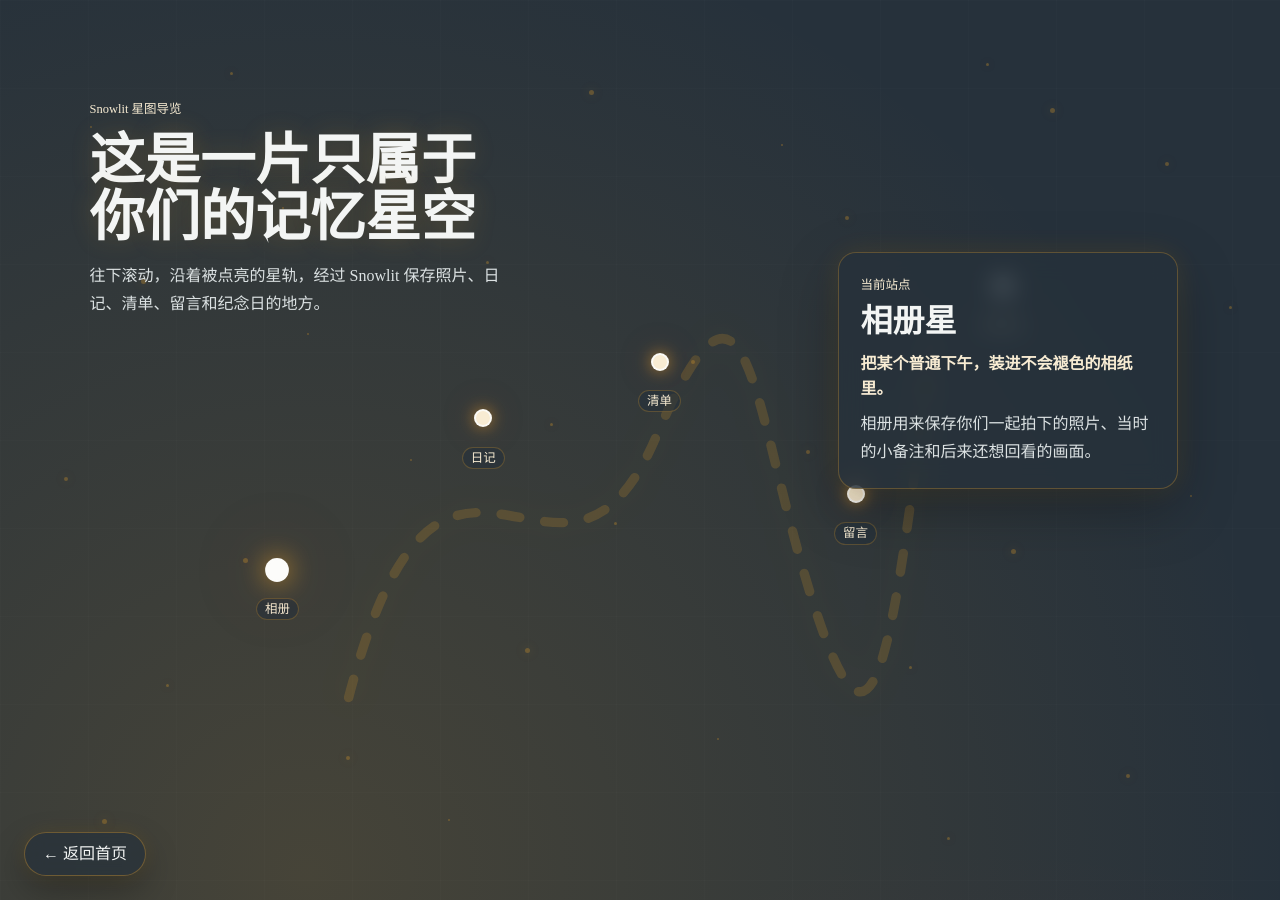
Test: 关于页星图导览 › 聚焦或触发站点会切换当前说明卡
Focus the link "留言" at (856, 533), box 834,485 -> 877,545
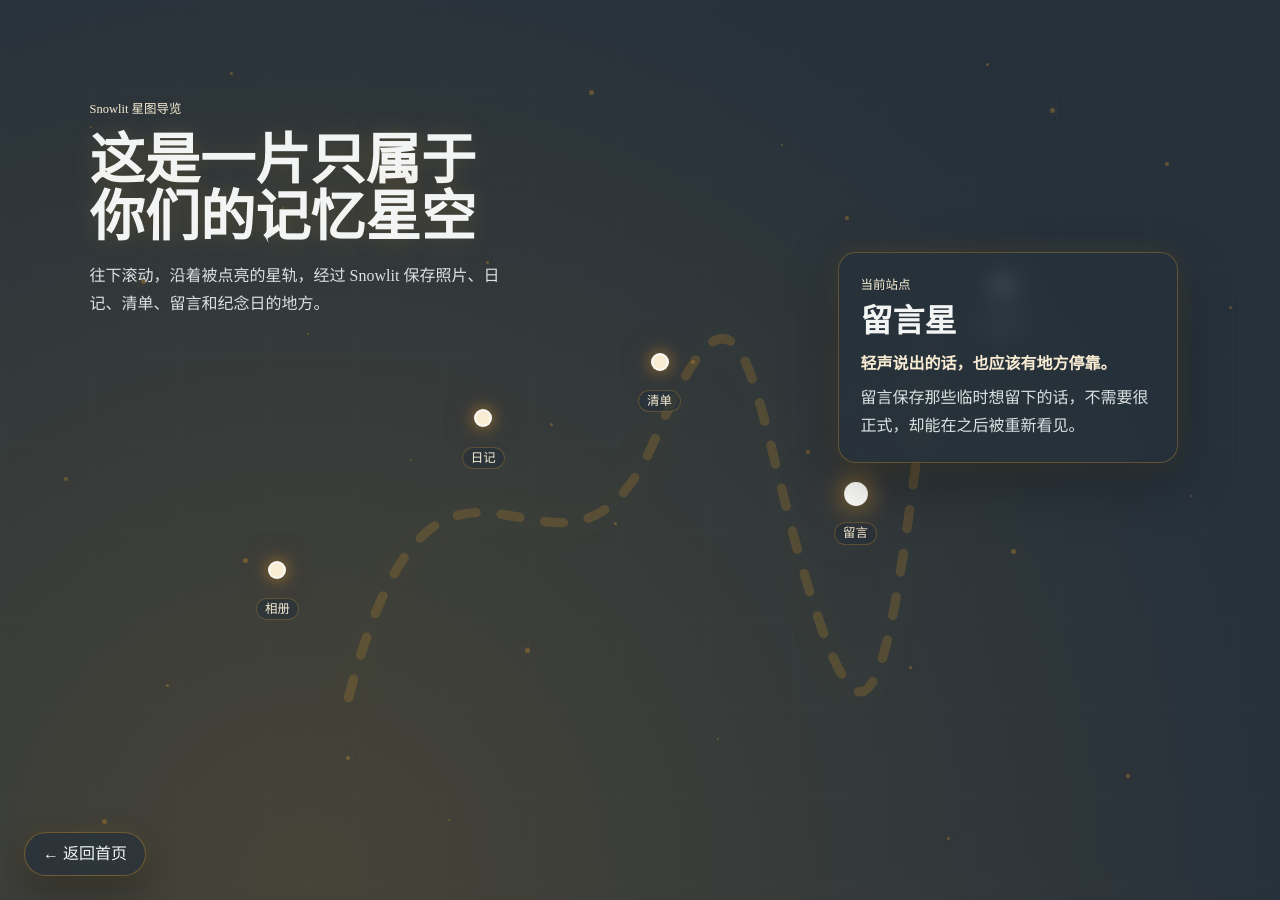
Result: the element with class "about-starmap__card" shows "留言星" at 861,303 -> 957,339
